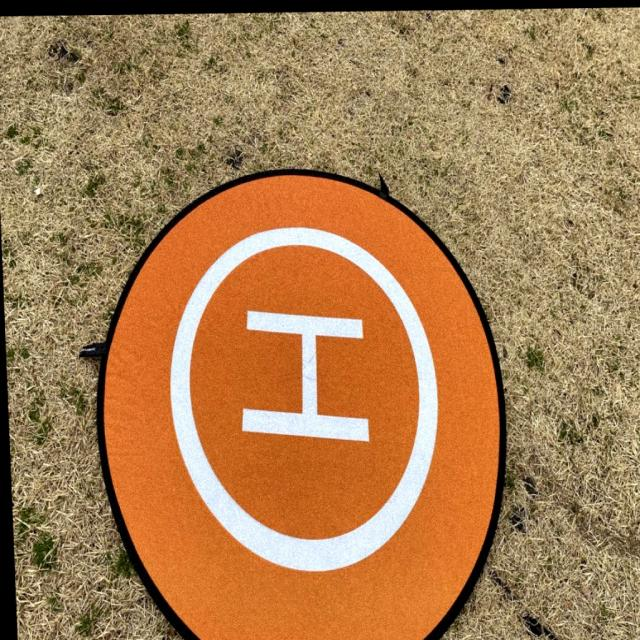helipad: (162, 220, 448, 580)
